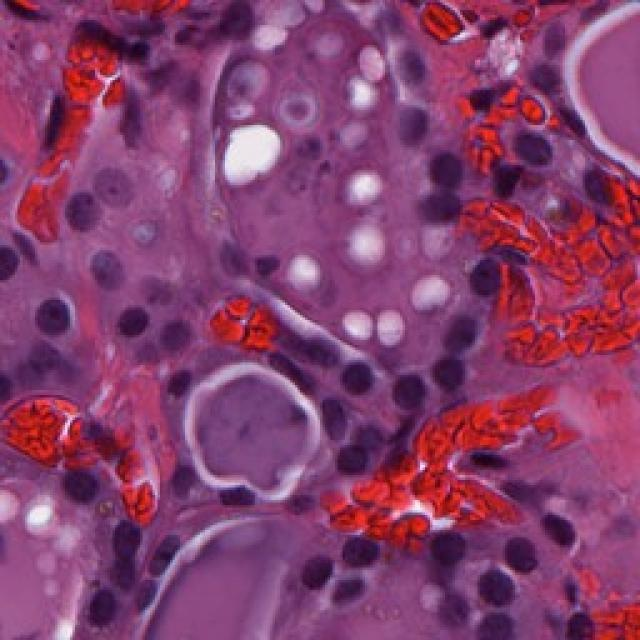normal: (457, 551, 545, 618), (491, 522, 561, 600), (442, 239, 520, 305), (404, 133, 474, 206), (322, 348, 388, 416), (18, 281, 78, 352), (424, 301, 497, 357), (106, 291, 168, 351), (407, 188, 476, 241), (381, 354, 430, 426), (425, 508, 474, 577), (422, 342, 468, 408)
